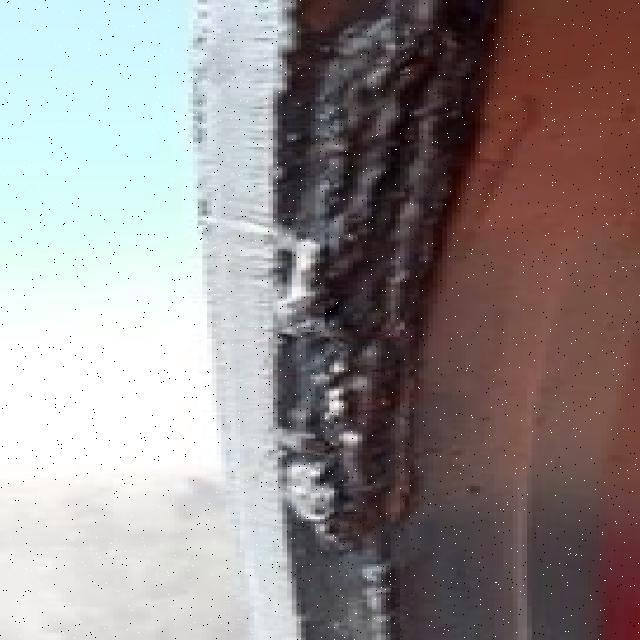Bad Welding: (251, 6, 546, 568)
